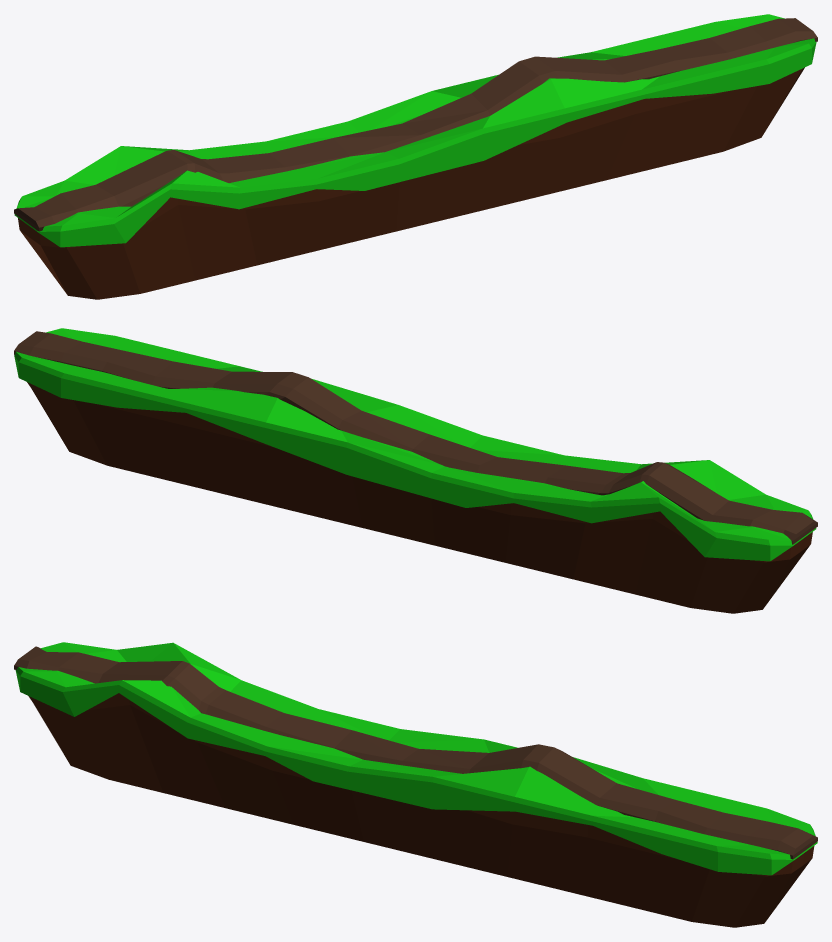
The model's file is block_long1.fbx.
3 renders of one model, top to bottom at view 1: azimuth 30°, elevation 25°; view 2: azimuth 150°, elevation 25°; view 3: azimuth 330°, elevation 25°, orthographic.
Parts seen in each view (by area): view 1: block_long1; view 2: block_long1; view 3: block_long1.
Boxes of the visible parts, box(x1,y1,x2,y2) form: block_long1: box(14, 14, 817, 299); block_long1: box(14, 328, 817, 613); block_long1: box(14, 642, 817, 927).
Bounding box in the file's own units: 3113 × 480 × 365.
